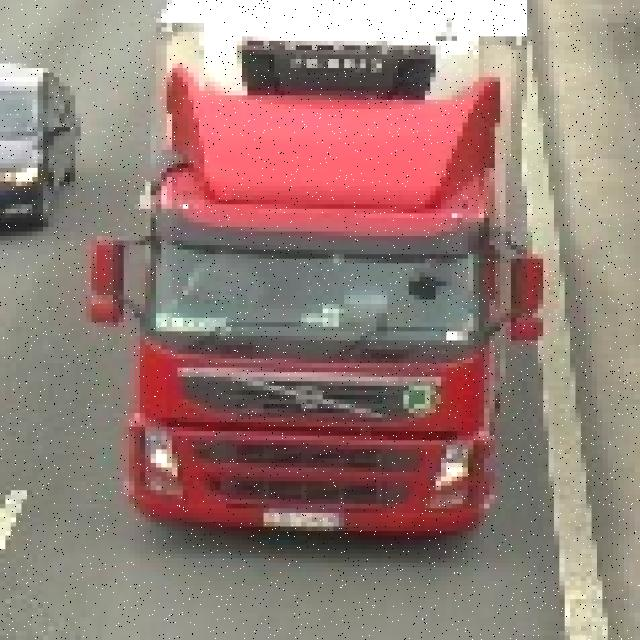truck: (80, 0, 538, 545)
